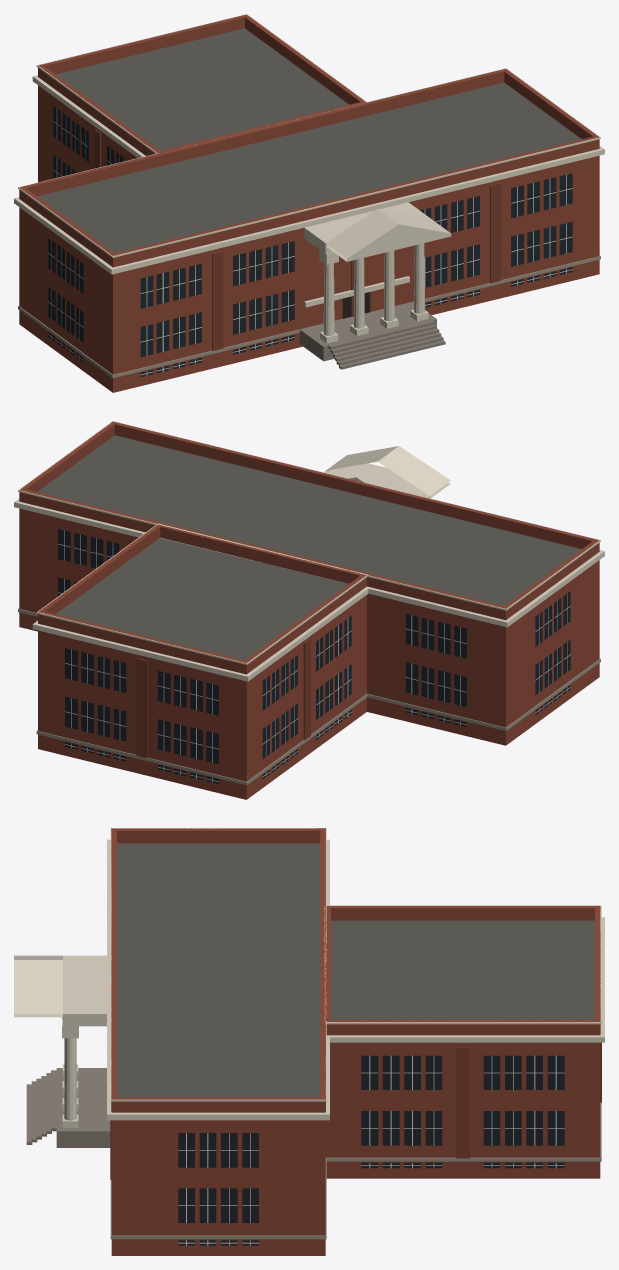
The model's file is garland-school-1961.glb.
3 views of the same model, one above another, from view 1: azimuth 30°, elevation 25°; view 2: azimuth 150°, elevation 25°; view 3: azimuth 270°, elevation 25° (orthographic). The views are drawn at different scales.
Visible parts, largest first — view 1: kit-garland-school-1961; view 2: kit-garland-school-1961; view 3: kit-garland-school-1961.
Part boxes in pixels (x1,y1,x2,y2): kit-garland-school-1961: (14, 14, 604, 392); kit-garland-school-1961: (14, 421, 604, 799); kit-garland-school-1961: (14, 828, 604, 1255).
Size of the model in its own units: 42.6 by 11.6 by 38.7.
